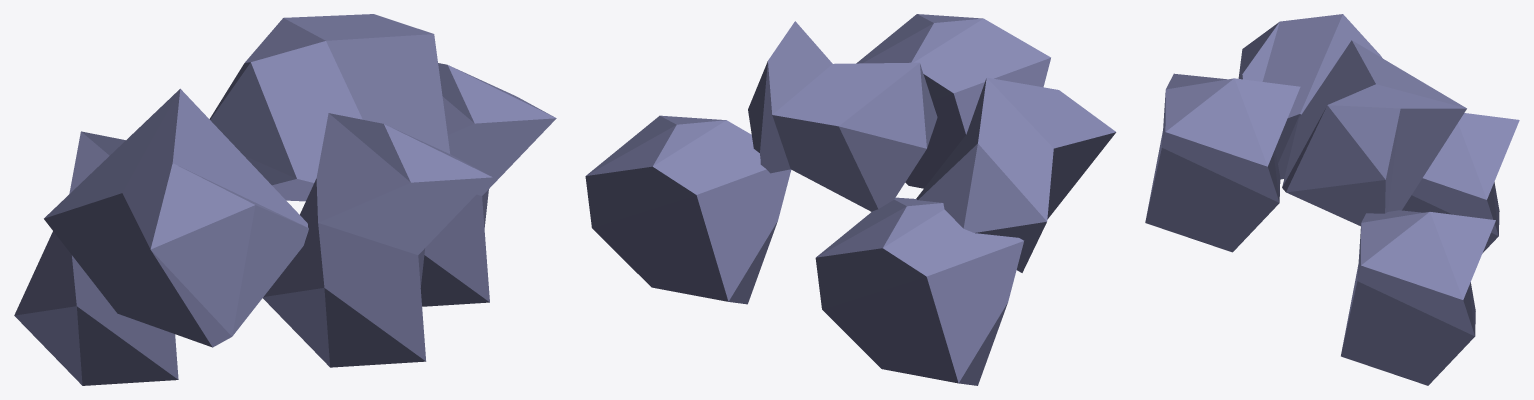
File: iron_ore.fbx
The picture shows the model from 3 angles, left to right: view 1: azimuth 30°, elevation 25°; view 2: azimuth 150°, elevation 25°; view 3: azimuth 270°, elevation 25°; orthographic projection. The views are drawn at different scales.
Parts seen in each view (by area): view 1: Сфера.009, Сфера.007, Сфера.005, Сфера.008, Сфера.006; view 2: Сфера.006, Сфера.008, Сфера.005, Сфера.009, Сфера.007; view 3: Сфера.005, Сфера.007, Сфера.006, Сфера.009, Сфера.008.
Part boxes in pixels (<box>): Сфера.009: <box>44,88,308,347</box>; Сфера.007: <box>263,113,492,367</box>; Сфера.005: <box>209,14,449,201</box>; Сфера.008: <box>14,131,178,385</box>; Сфера.006: <box>420,63,556,306</box>; Сфера.006: <box>585,115,791,304</box>; Сфера.008: <box>815,197,1023,385</box>; Сфера.005: <box>748,21,937,211</box>; Сфера.009: <box>916,77,1116,272</box>; Сфера.007: <box>856,14,1050,188</box>; Сфера.005: <box>1282,40,1466,226</box>; Сфера.007: <box>1145,73,1300,252</box>; Сфера.006: <box>1341,210,1495,385</box>; Сфера.009: <box>1238,14,1382,179</box>; Сфера.008: <box>1402,113,1519,253</box>.
Bounding box in the file's own units: 51.98 × 31.63 × 41.65.
